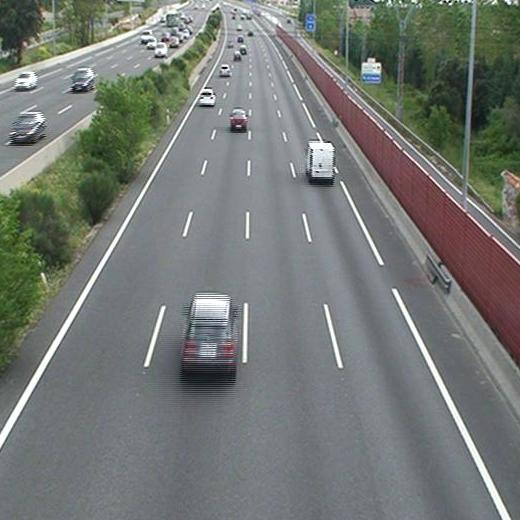car: (183, 294, 233, 370), (229, 109, 247, 129), (198, 90, 216, 104), (219, 63, 229, 76), (233, 52, 242, 62)
van: (307, 142, 334, 182)
